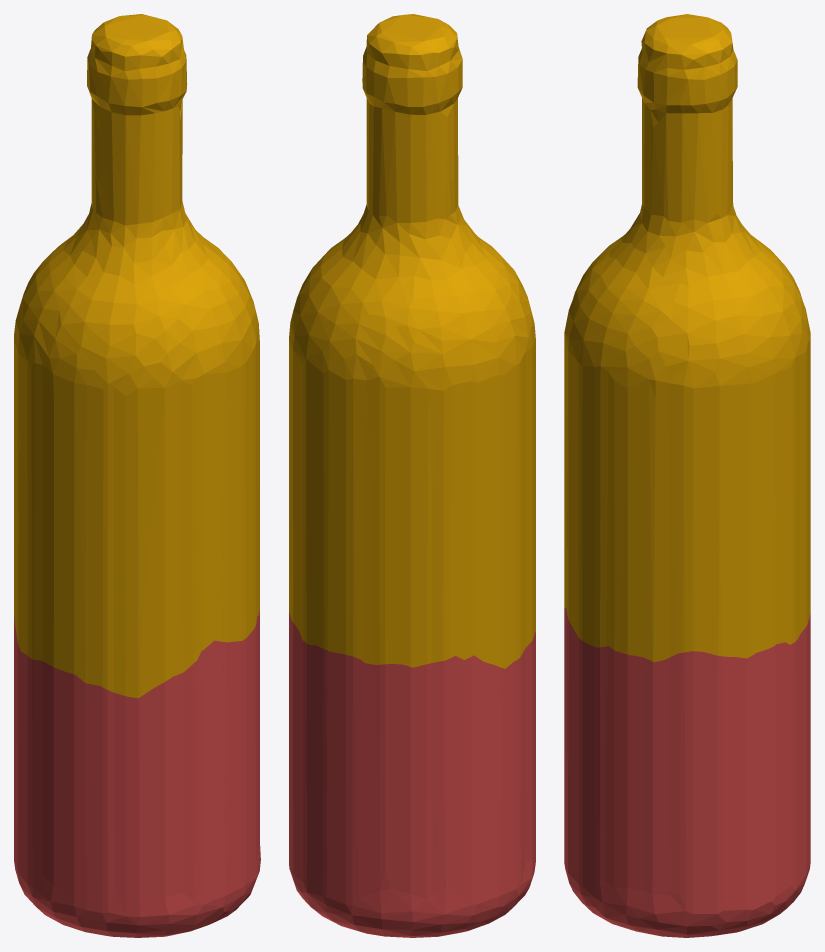
File: fractured_4_2pcs.glb
3 views of the same model, side by side, from view 1: azimuth 30°, elevation 25°; view 2: azimuth 150°, elevation 25°; view 3: azimuth 270°, elevation 25° (orthographic).
Parts seen in each view (by area): view 1: piece_0.obj, piece_1.obj; view 2: piece_0.obj, piece_1.obj; view 3: piece_0.obj, piece_1.obj.
Part boxes in pixels (x1=…): piece_0.obj: x1=14, y1=14, x2=259, y2=698; piece_1.obj: x1=14, y1=610, x2=260, y2=937; piece_0.obj: x1=289, y1=14, x2=535, y2=668; piece_1.obj: x1=289, y1=613, x2=535, y2=937; piece_0.obj: x1=564, y1=14, x2=810, y2=662; piece_1.obj: x1=564, y1=608, x2=810, y2=937.
Size of the model in its own units: 0.2559 by 1 by 0.2559.
